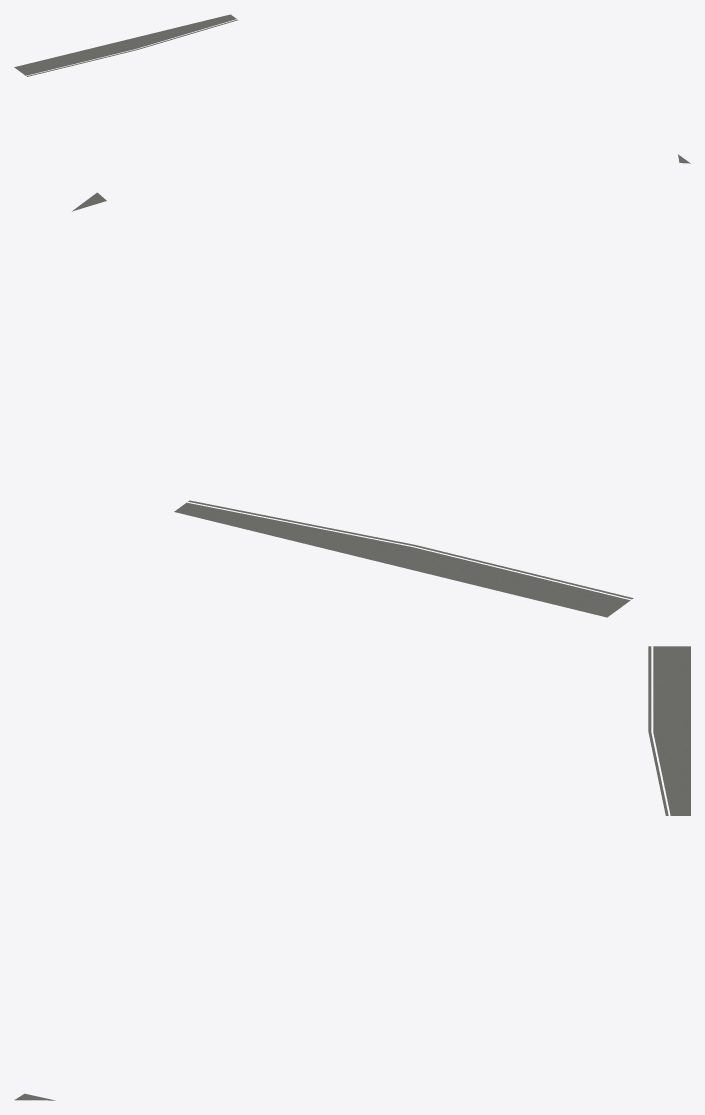
The model's file is kd_stage_13612f_0_22_bounded.glb.
3 renders of one model, top to bottom at view 1: azimuth 30°, elevation 25°; view 2: azimuth 150°, elevation 25°; view 3: azimuth 270°, elevation 25°, orthographic. The views are drawn at different scales.
Parts seen in each view (by area): view 1: kd_stage_13612f_0_22_bounded; view 2: kd_stage_13612f_0_22_bounded; view 3: kd_stage_13612f_0_22_bounded.
Boxes of the visible parts, x1,y1,x2,y2 form: kd_stage_13612f_0_22_bounded: (14,14,690,163); kd_stage_13612f_0_22_bounded: (72,192,633,617); kd_stage_13612f_0_22_bounded: (14,646,690,1100).
Bounding box in the file's own units: 90.29 × 10.31 × 70.83.
1 material, 1 textured.
